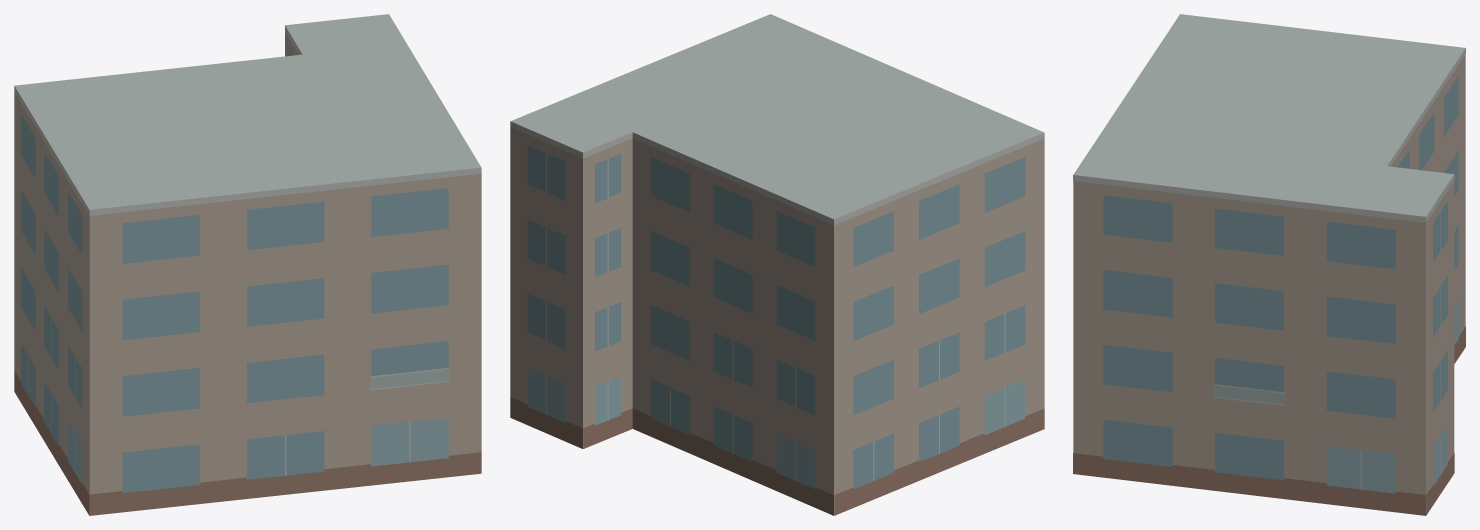
The model's file is residential-850dbc5a-c663-4bb3-9f0e-00741b35cb7e.glb.
The picture shows the model from 3 angles, left to right: view 1: azimuth 30°, elevation 25°; view 2: azimuth 150°, elevation 25°; view 3: azimuth 270°, elevation 25°; orthographic projection. The views are drawn at different scales.
Visible parts, largest first — view 1: residential-850dbc5a-c663-4bb3-9f0e-00741b35cb7e.tmp; view 2: residential-850dbc5a-c663-4bb3-9f0e-00741b35cb7e.tmp; view 3: residential-850dbc5a-c663-4bb3-9f0e-00741b35cb7e.tmp.
Boxes of the visible parts, left/top/right/bottom form: residential-850dbc5a-c663-4bb3-9f0e-00741b35cb7e.tmp: left=14, top=14, right=481, bottom=515; residential-850dbc5a-c663-4bb3-9f0e-00741b35cb7e.tmp: left=510, top=14, right=1044, bottom=515; residential-850dbc5a-c663-4bb3-9f0e-00741b35cb7e.tmp: left=1073, top=14, right=1465, bottom=515.
Size of the model in its own units: 17.76 by 12.2 by 14.53.
